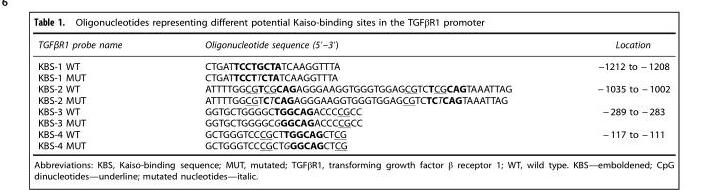table: (37, 36, 669, 150)
table column: (162, 36, 553, 150), (37, 36, 162, 150), (553, 36, 669, 150)
table column header: (37, 36, 669, 55)
table row: (37, 36, 669, 55), (37, 55, 669, 71), (37, 82, 669, 94), (37, 116, 669, 128), (37, 71, 669, 82), (37, 94, 669, 105), (37, 105, 669, 116), (37, 128, 669, 139), (37, 139, 669, 150)
